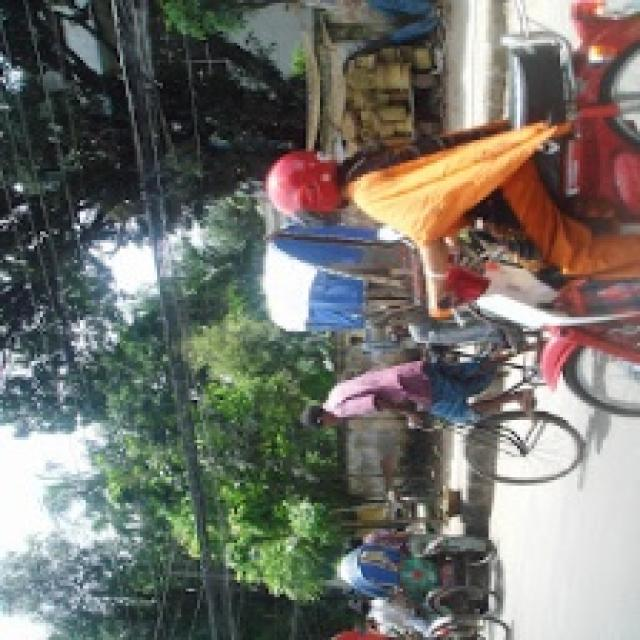bike: (413, 12, 637, 428)
rickshaw: (255, 214, 549, 496)
